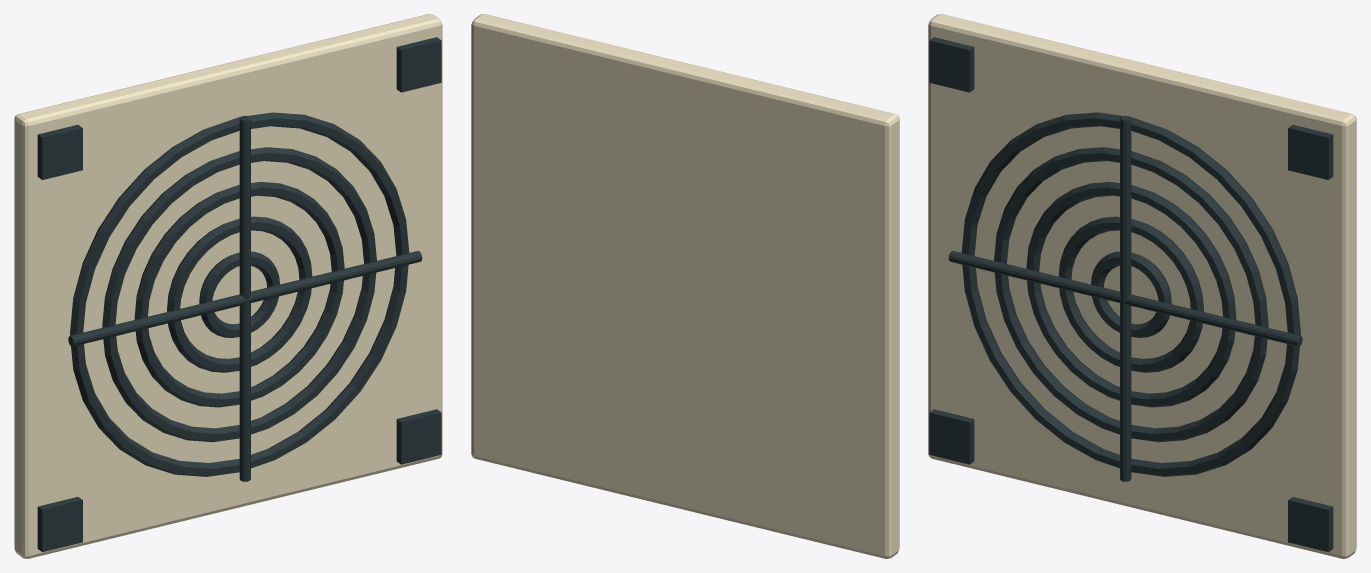
File: P076_focus_chart.glb
3 views of the same model, side by side, from view 1: azimuth 30°, elevation 25°; view 2: azimuth 150°, elevation 25°; view 3: azimuth 330°, elevation 25° (orthographic).
Parts seen in each view (by area): view 1: P076_chart_001, P076_target_006, P076_target_005, P076_target_004, P076_target_003, P076_vertical_007, P076_horizontal_008, P076_target_002, P076_corner_011, P076_corner_010, P076_corner_012, P076_corner_009; view 2: P076_chart_001; view 3: P076_chart_001, P076_target_006, P076_target_005, P076_target_004, P076_target_003, P076_vertical_007, P076_horizontal_008, P076_target_002, P076_corner_009, P076_corner_010, P076_corner_012, P076_corner_011.
Part boxes in pixels (x1,y1,x2,y2): P076_chart_001: (14, 14, 442, 558); P076_target_006: (70, 112, 409, 476); P076_target_005: (102, 147, 376, 442); P076_target_004: (134, 182, 344, 407); P076_target_003: (167, 216, 312, 372); P076_vertical_007: (239, 115, 250, 481); P076_horizontal_008: (68, 251, 422, 346); P076_target_002: (199, 251, 279, 337); P076_corner_011: (396, 409, 441, 464); P076_corner_010: (37, 124, 82, 179); P076_corner_012: (396, 37, 441, 92); P076_corner_009: (37, 497, 82, 552); P076_chart_001: (471, 14, 899, 558); P076_chart_001: (928, 14, 1356, 558); P076_target_006: (961, 112, 1300, 476); P076_target_005: (994, 147, 1268, 442); P076_target_004: (1026, 182, 1236, 407); P076_target_003: (1058, 216, 1203, 372); P076_vertical_007: (1120, 115, 1131, 481); P076_horizontal_008: (948, 251, 1302, 346); P076_target_002: (1091, 251, 1171, 337); P076_corner_009: (929, 409, 974, 464); P076_corner_010: (929, 37, 974, 92); P076_corner_012: (1288, 124, 1333, 179); P076_corner_011: (1288, 497, 1333, 552).
Size of the model in its own units: 0.26 by 0.26 by 0.0275.
